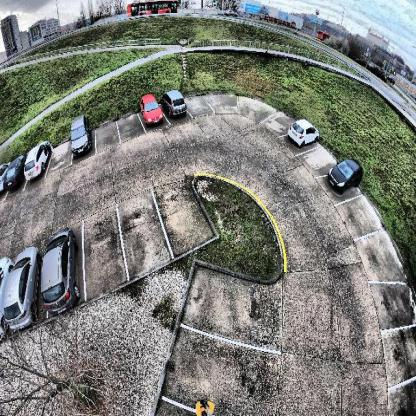free: (179, 331, 270, 393), (192, 277, 269, 346), (121, 198, 162, 274), (85, 218, 122, 288), (167, 186, 205, 250), (367, 229, 407, 282), (383, 329, 416, 383), (378, 278, 415, 326), (348, 198, 388, 234), (301, 139, 332, 175), (205, 89, 242, 114), (94, 115, 117, 152), (240, 90, 266, 122), (263, 108, 289, 140), (189, 88, 213, 118), (119, 114, 144, 141), (119, 115, 140, 142), (53, 138, 67, 172)
occupied: (40, 229, 80, 305), (5, 244, 38, 330), (288, 112, 321, 148), (330, 155, 362, 192), (160, 82, 188, 117), (26, 140, 50, 180), (69, 113, 90, 157), (140, 90, 162, 128), (4, 155, 24, 190)
